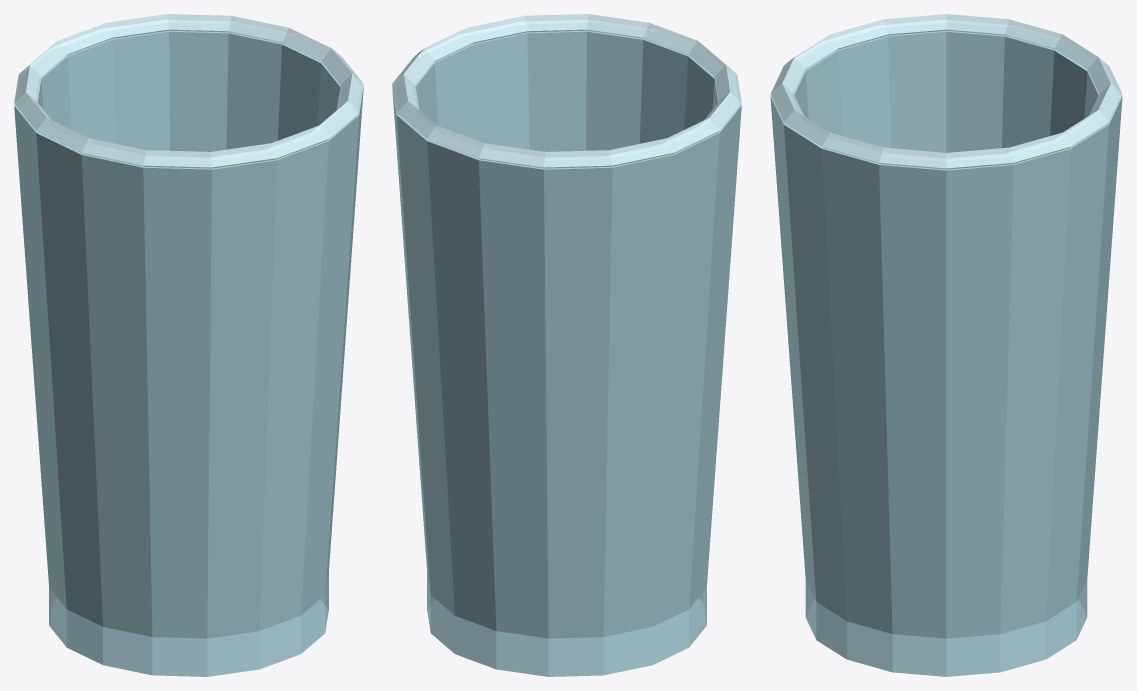
The model's file is highball_glass.glb.
3 views of the same model, side by side, from view 1: azimuth 30°, elevation 25°; view 2: azimuth 150°, elevation 25°; view 3: azimuth 270°, elevation 25° (orthographic).
Visible parts, largest first — view 1: GlassBody, GlassRim, WeightedBase; view 2: GlassBody, GlassRim, WeightedBase; view 3: GlassBody, GlassRim, WeightedBase.
Boxes of the visible parts, left/top/right/bottom form: GlassBody: left=14, top=23, right=363, bottom=638; GlassRim: left=14, top=14, right=363, bottom=168; WeightedBase: left=49, top=572, right=328, bottom=676; GlassBody: left=392, top=23, right=741, bottom=638; GlassRim: left=392, top=14, right=741, bottom=168; WeightedBase: left=427, top=572, right=706, bottom=676; GlassBody: left=770, top=23, right=1122, bottom=638; GlassRim: left=770, top=14, right=1122, bottom=169; WeightedBase: left=805, top=580, right=1087, bottom=676.
Bounding box in the file's own units: 0.15 × 0.251 × 0.15.
